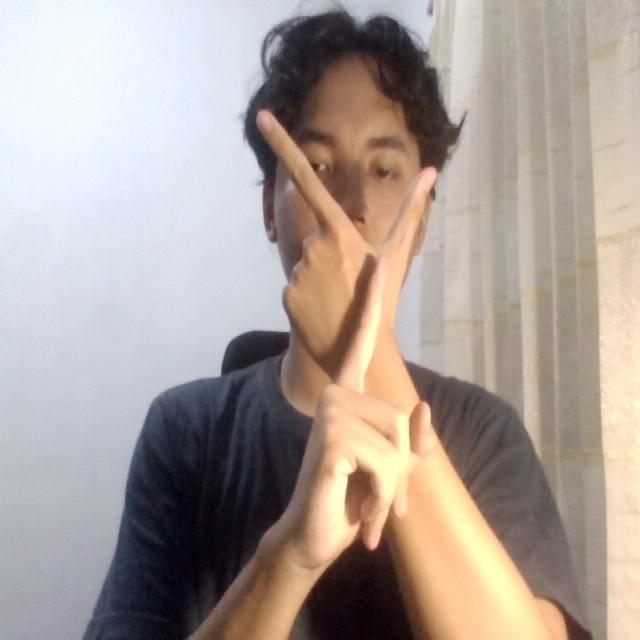No: (236, 98, 490, 586)
